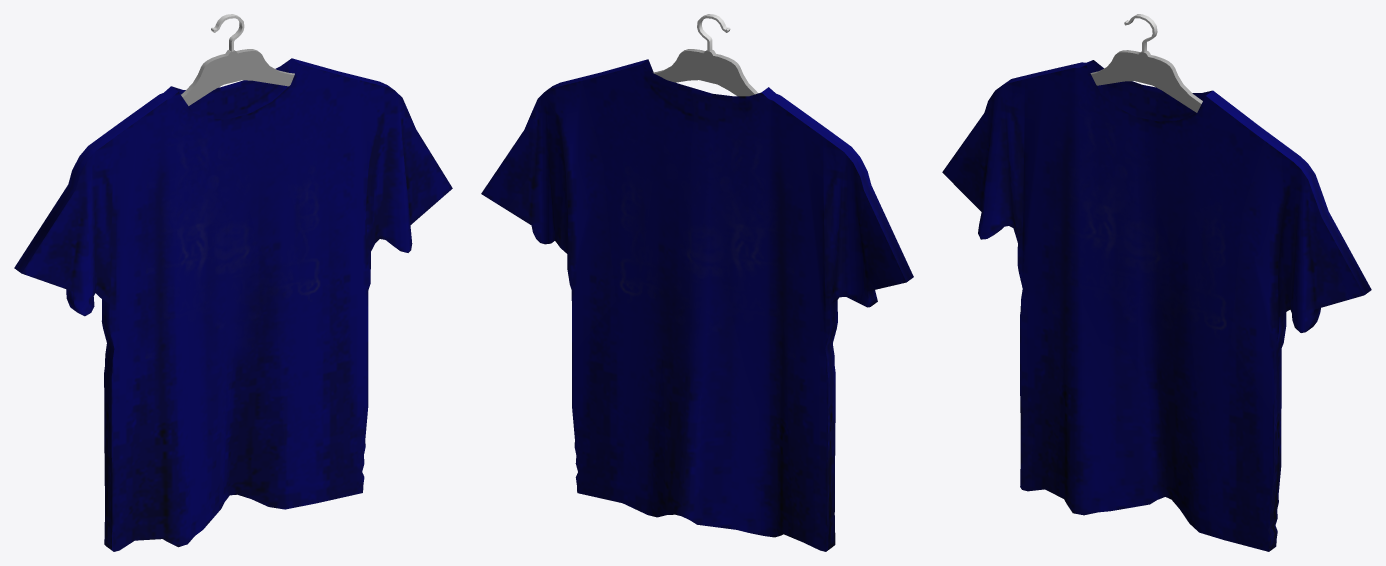
File: TShirt_Hanging_Blue.fbx
3 renders of one model, left to right at view 1: azimuth 30°, elevation 25°; view 2: azimuth 150°, elevation 25°; view 3: azimuth 330°, elevation 25°, orthographic.
Parts seen in each view (by area): view 1: TShirt, Hanger; view 2: TShirt, Hanger; view 3: TShirt, Hanger.
Part boxes in pixels (bbox=[...]): TShirt: bbox=[14, 58, 452, 551]; Hanger: bbox=[181, 49, 294, 105]; TShirt: bbox=[481, 59, 913, 551]; Hanger: bbox=[653, 49, 758, 96]; TShirt: bbox=[942, 60, 1371, 551]; Hanger: bbox=[1090, 50, 1202, 112].
Bounding box in the file's own units: 0.8189 × 0.9312 × 0.094.
